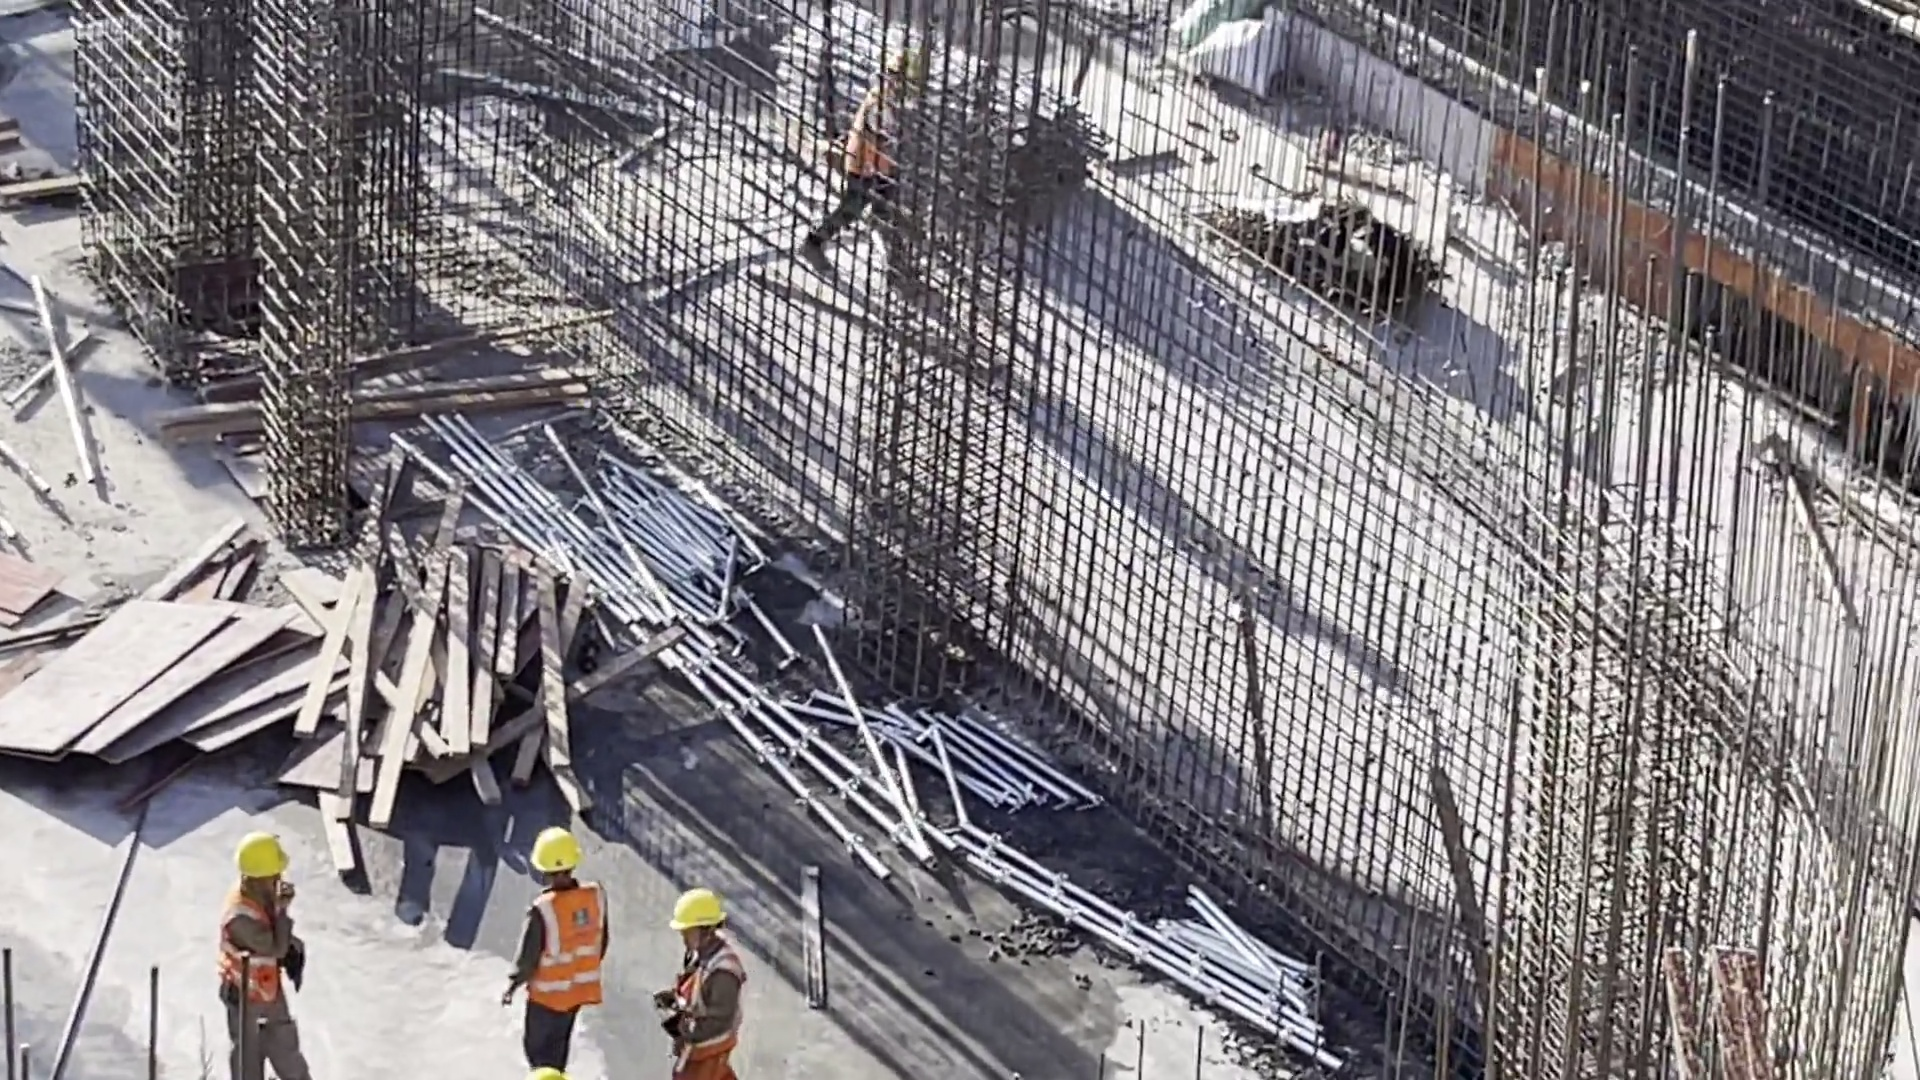board: (10, 592, 294, 770)
helmet: (673, 878, 736, 935), (236, 832, 301, 882), (536, 822, 588, 879), (885, 50, 915, 85)
person: (821, 38, 944, 282), (225, 830, 334, 1080), (515, 824, 598, 1080), (666, 890, 755, 1080)
scaffold: (499, 452, 711, 633), (1115, 884, 1316, 1035), (891, 700, 1086, 842)
vest: (505, 878, 624, 1011), (668, 936, 762, 1059), (218, 884, 305, 1012), (852, 86, 904, 184)
wood: (296, 518, 578, 819)
